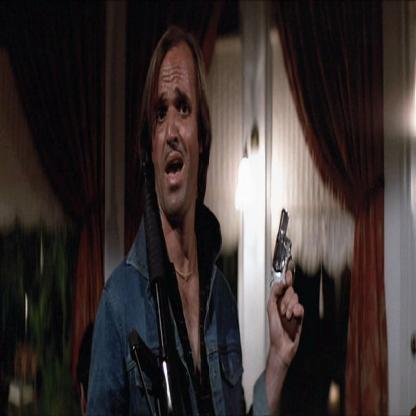gun: (266, 188, 300, 361)
